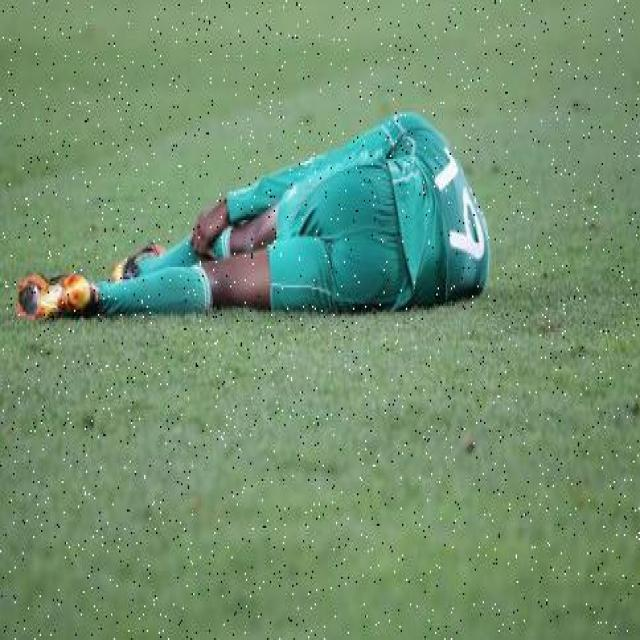fall: (16, 120, 480, 316)
